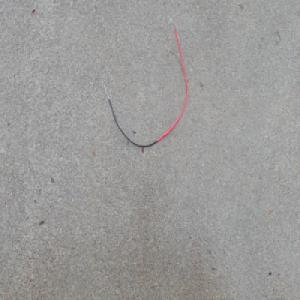Wire: (102, 11, 189, 150)
